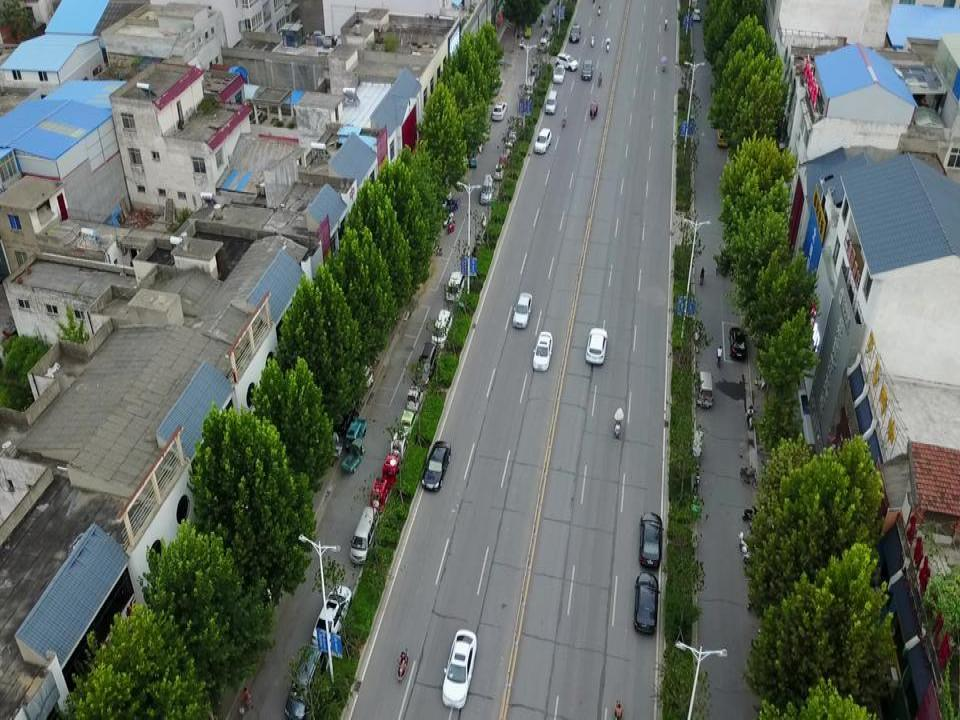car: (442, 630, 477, 710), (311, 586, 352, 649), (633, 572, 660, 635), (421, 441, 451, 491), (638, 512, 664, 568), (532, 331, 553, 372), (585, 328, 607, 367), (512, 292, 532, 329), (728, 327, 748, 360), (555, 53, 578, 71), (491, 102, 507, 122), (529, 64, 545, 83), (552, 64, 565, 84), (581, 59, 593, 80), (569, 24, 581, 43), (520, 93, 532, 111), (717, 128, 728, 147), (538, 38, 550, 54), (543, 25, 552, 40), (692, 10, 701, 22)
truck: (345, 417, 367, 452)
van: (284, 645, 327, 720), (349, 507, 380, 565), (413, 343, 438, 389), (431, 309, 452, 351), (445, 271, 467, 304), (695, 371, 714, 408), (533, 128, 551, 153), (479, 173, 493, 204), (545, 90, 557, 114), (525, 76, 536, 99)
